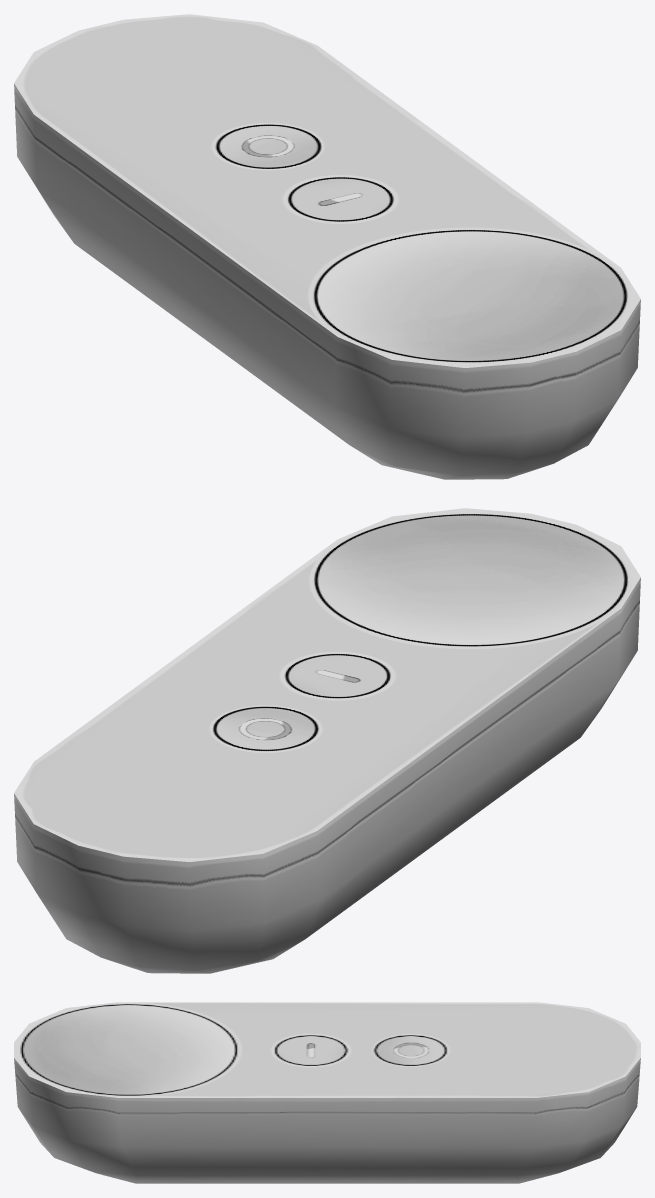
File: ControllerGeo.fbx
3 renders of one model, top to bottom at view 1: azimuth 30°, elevation 25°; view 2: azimuth 150°, elevation 25°; view 3: azimuth 270°, elevation 25°, orthographic. The views are drawn at different scales.
Visible parts, largest first — view 1: SharedControllerGeo; view 2: SharedControllerGeo; view 3: SharedControllerGeo.
Boxes of the visible parts, <box> form: SharedControllerGeo: <box>14,14,640,479</box>; SharedControllerGeo: <box>14,508,640,973</box>; SharedControllerGeo: <box>14,1002,640,1183</box>.
Size of the model in its own units: 13.48 by 7.71 by 37.35.
